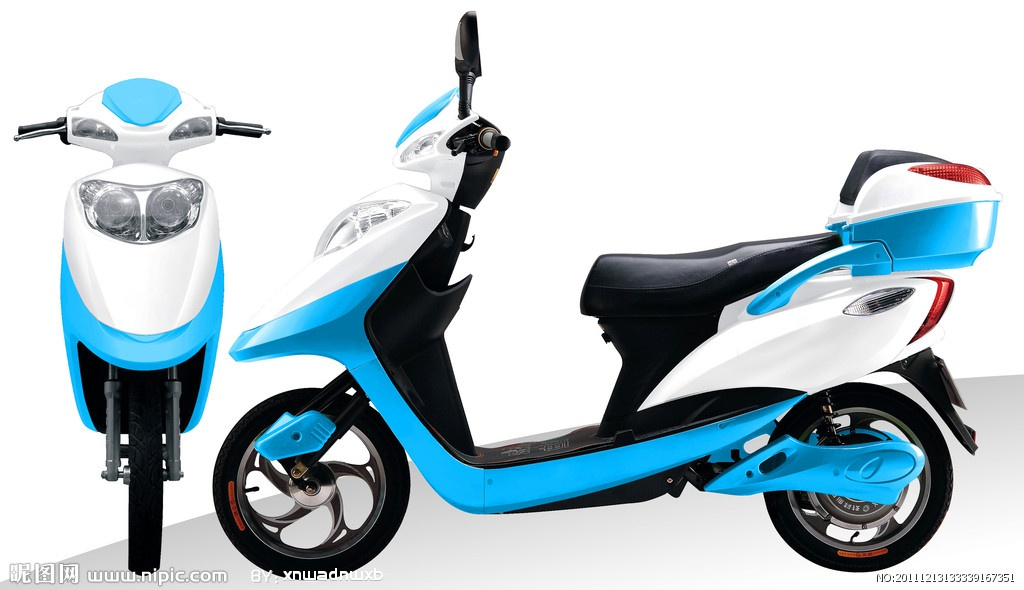non-vehicle: (228, 59, 1002, 585), (14, 77, 266, 580)
